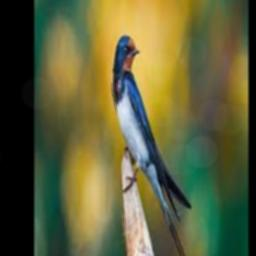Swallow: (113, 35, 192, 256)
